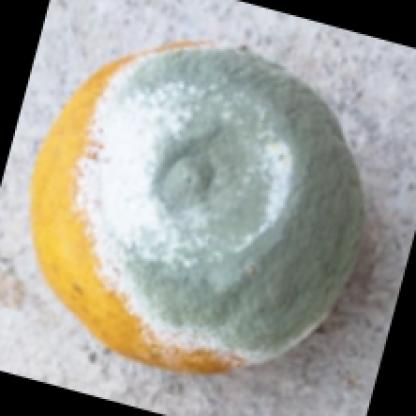rotten: (31, 40, 366, 377)
